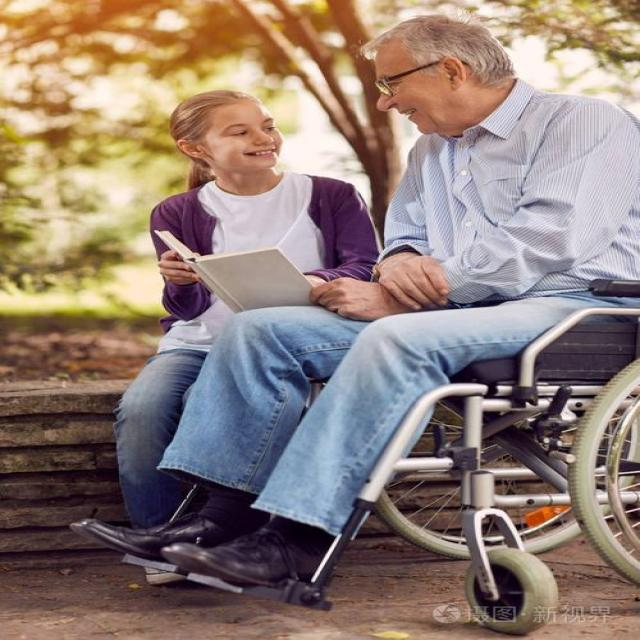wheelchairs: (77, 243, 633, 640)
